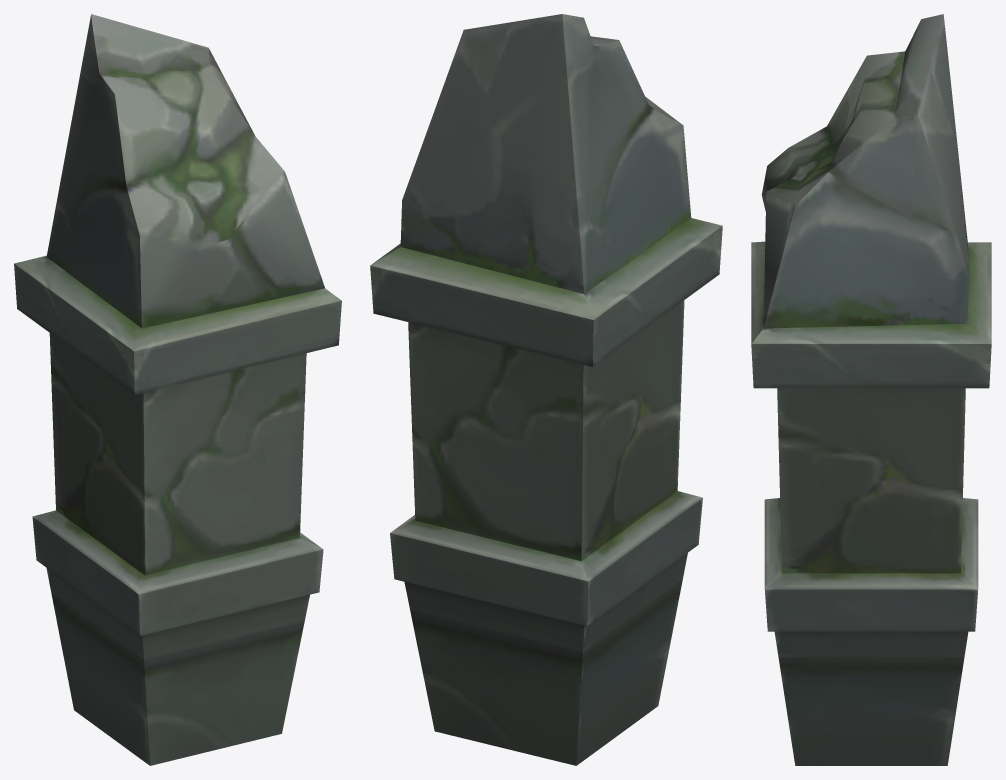
Rendered from scene_malujiakuangdao_strone01.FBX.
3 views of the same model, side by side, from view 1: azimuth 30°, elevation 25°; view 2: azimuth 150°, elevation 25°; view 3: azimuth 270°, elevation 25° (orthographic). The views are drawn at different scales.
Visible parts, largest first — view 1: scene_malujiakuangdao_strone01; view 2: scene_malujiakuangdao_strone01; view 3: scene_malujiakuangdao_strone01.
Boxes of the visible parts, x1=… form: scene_malujiakuangdao_strone01: x1=14, y1=14, x2=341, y2=765; scene_malujiakuangdao_strone01: x1=370, y1=14, x2=722, y2=765; scene_malujiakuangdao_strone01: x1=751, y1=14, x2=991, y2=765.
Size of the model in its own units: 103 by 328 by 103.
